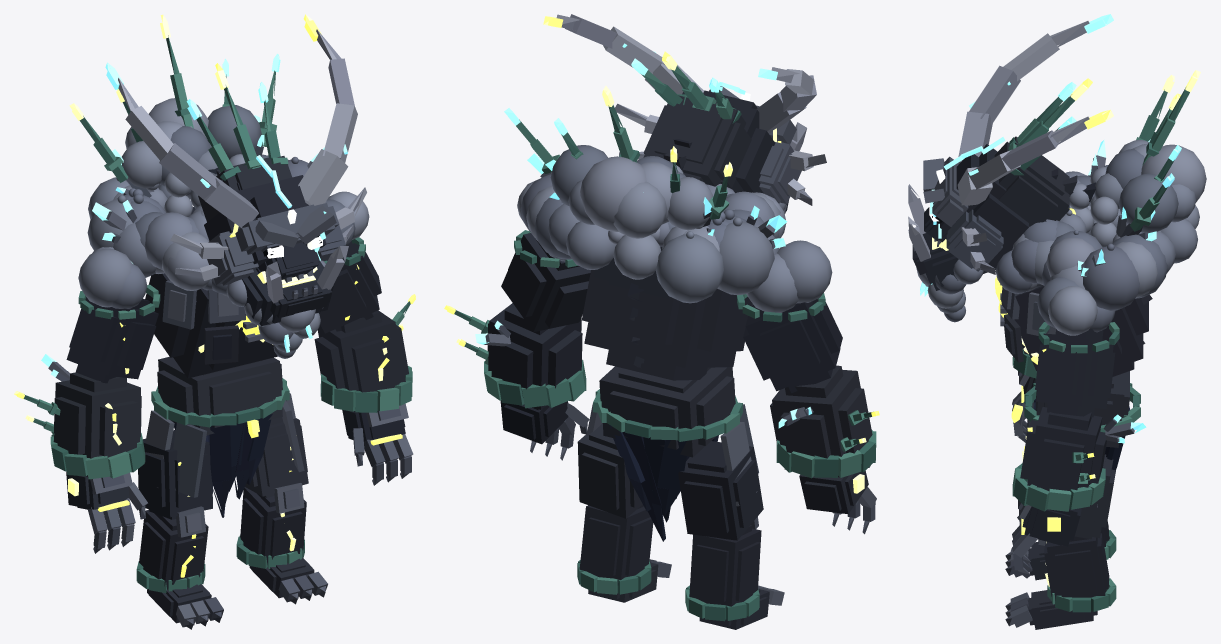
3 renders of one model, left to right at view 1: azimuth 30°, elevation 25°; view 2: azimuth 150°, elevation 25°; view 3: azimuth 270°, elevation 25°, orthographic. The views are drawn at different scales.
Visible parts, largest first — view 1: StormTitan; view 2: StormTitan; view 3: StormTitan.
Part boxes in pixels (<box>): StormTitan: <box>14,14,415,629</box>; StormTitan: <box>444,14,879,629</box>; StormTitan: <box>908,14,1206,629</box>.
Bounding box in the file's own units: 1.53 × 1.97 × 0.9964.
